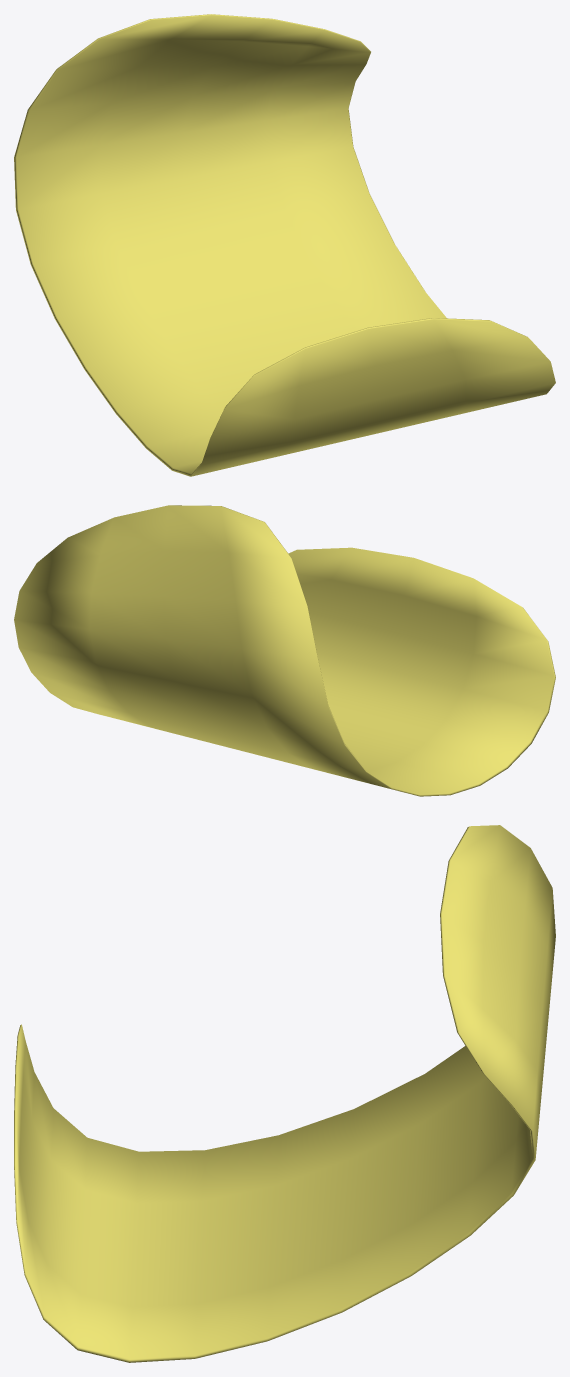
File: Confetti_02.fbx
The picture shows the model from 3 angles, top to bottom: view 1: azimuth 30°, elevation 25°; view 2: azimuth 150°, elevation 25°; view 3: azimuth 270°, elevation 25°; orthographic projection. The views are drawn at different scales.
Parts seen in each view (by area): view 1: Confetti_02; view 2: Confetti_02; view 3: Confetti_02.
Part boxes in pixels (left/top/right/bottom): Confetti_02: left=14, top=14, right=555, bottom=476; Confetti_02: left=14, top=505, right=555, bottom=796; Confetti_02: left=14, top=825, right=555, bottom=1362.
Bounding box in the file's own units: 9.91 × 8.64 × 10.71.
